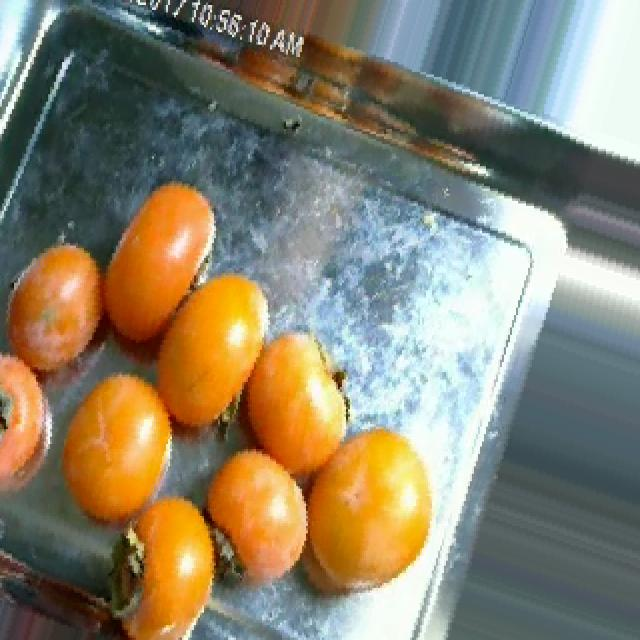Fruit: (278, 402, 466, 622), (40, 352, 198, 551), (0, 223, 128, 414), (96, 162, 236, 332), (196, 427, 328, 602), (104, 471, 238, 640)
